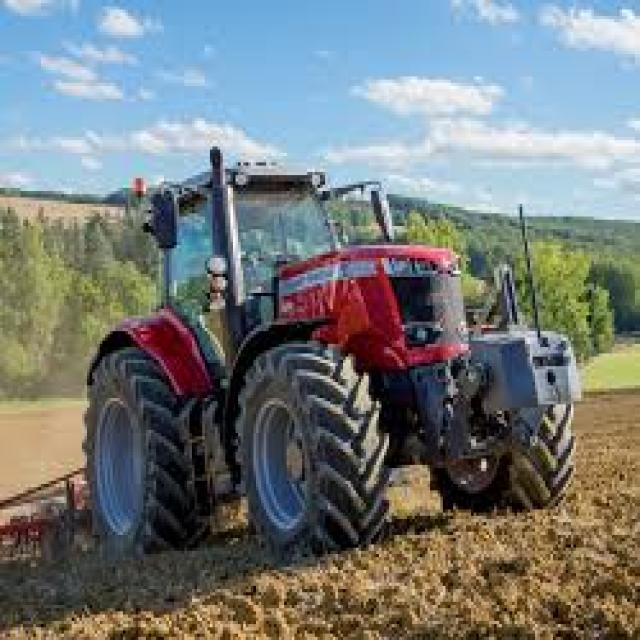Tratores - v5 YOLO V8L 2024-11-13: (42, 121, 566, 601)
